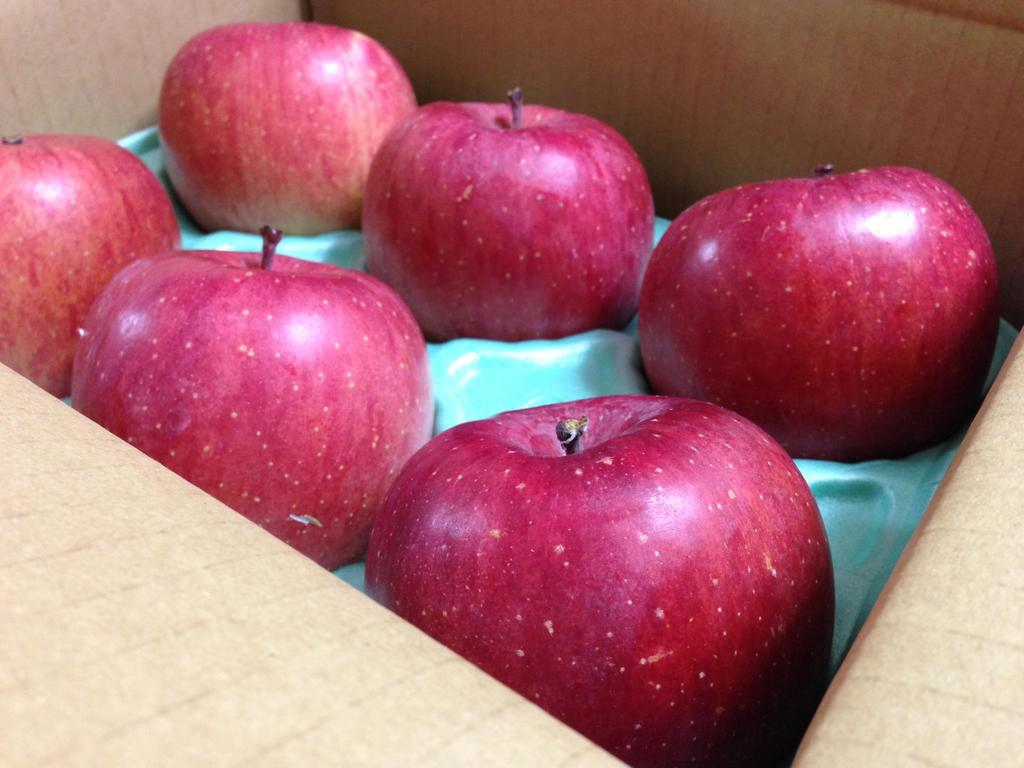Apple: (371, 387, 840, 767), (64, 225, 429, 566), (634, 160, 1002, 464), (359, 86, 651, 339), (154, 17, 418, 234), (0, 127, 181, 403)
